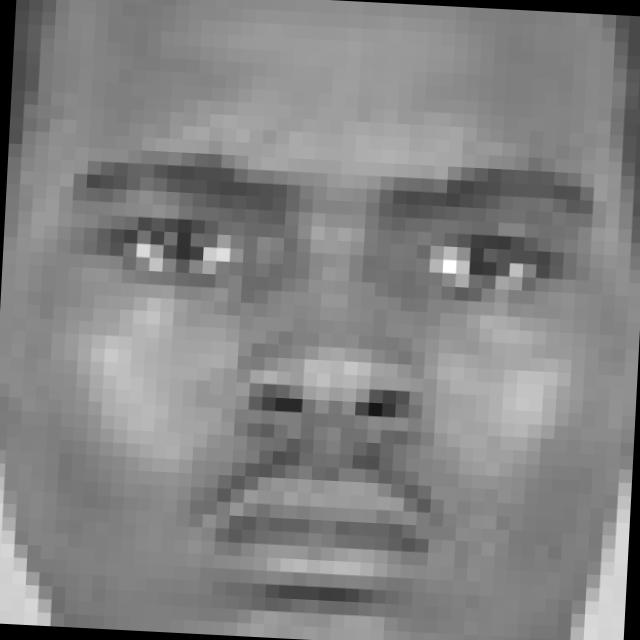neutral: (51, 134, 603, 617)
